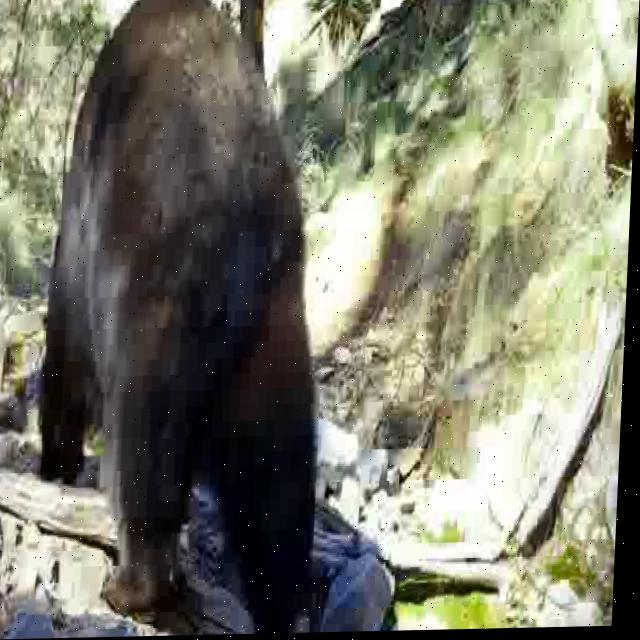bear face: (31, 0, 338, 639)
